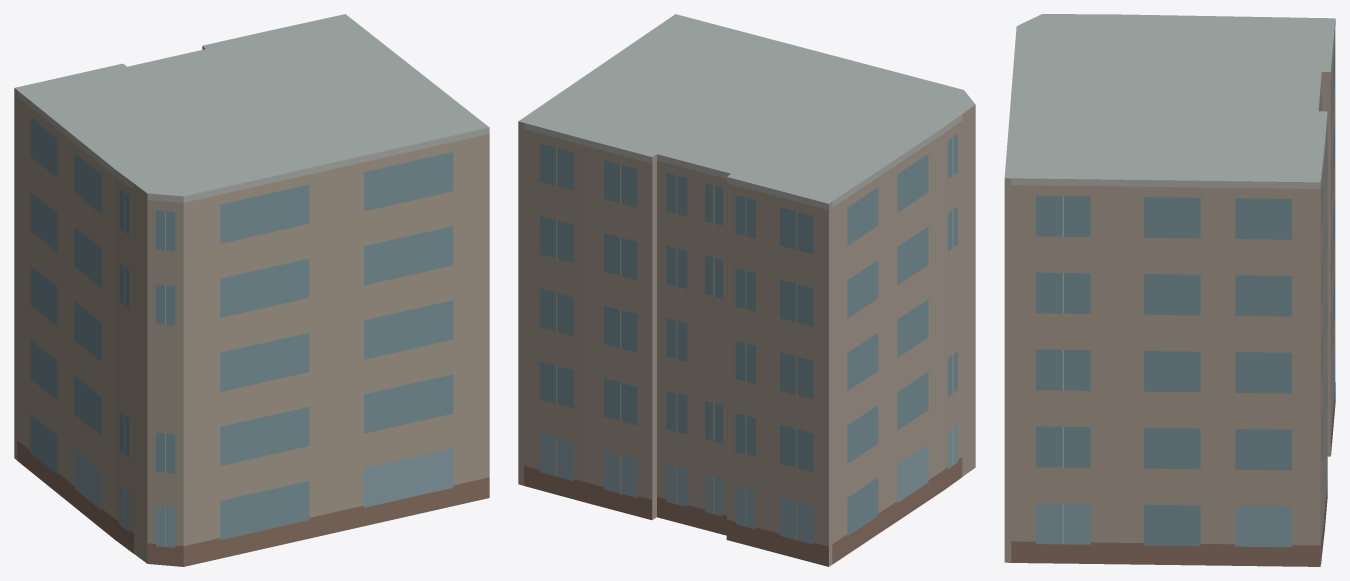
File: survey-upis-33001799.glb
3 views of the same model, side by side, from view 1: azimuth 30°, elevation 25°; view 2: azimuth 150°, elevation 25°; view 3: azimuth 270°, elevation 25° (orthographic). The views are drawn at different scales.
Visible parts, largest first — view 1: survey-upis-33001799.tmp; view 2: survey-upis-33001799.tmp; view 3: survey-upis-33001799.tmp.
Boxes of the visible parts, x1,y1,x2,y2 form: survey-upis-33001799.tmp: (14, 14, 489, 566); survey-upis-33001799.tmp: (518, 14, 975, 566); survey-upis-33001799.tmp: (1004, 14, 1335, 566).
Bounding box in the file's own units: 13.11 × 13.95 × 10.89.
